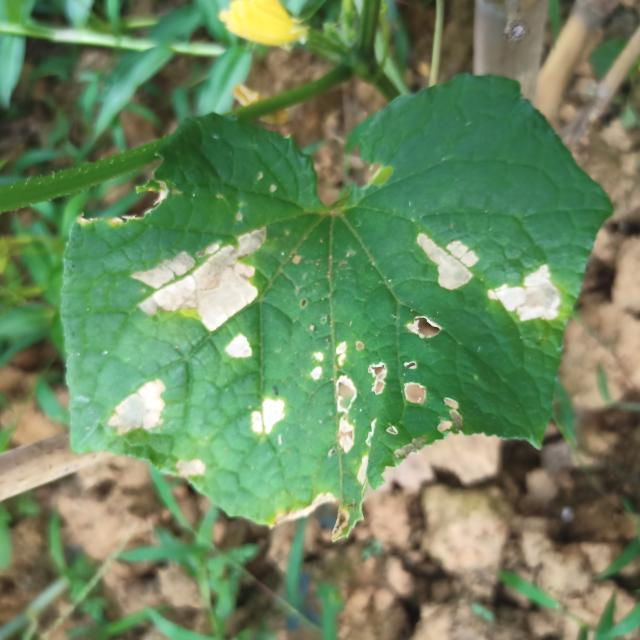disease_cucumber: (125, 222, 286, 334), (310, 339, 362, 454), (487, 260, 566, 335), (410, 226, 482, 296), (101, 371, 171, 440), (370, 355, 430, 412), (241, 389, 288, 442), (174, 456, 214, 480), (222, 336, 258, 362)
